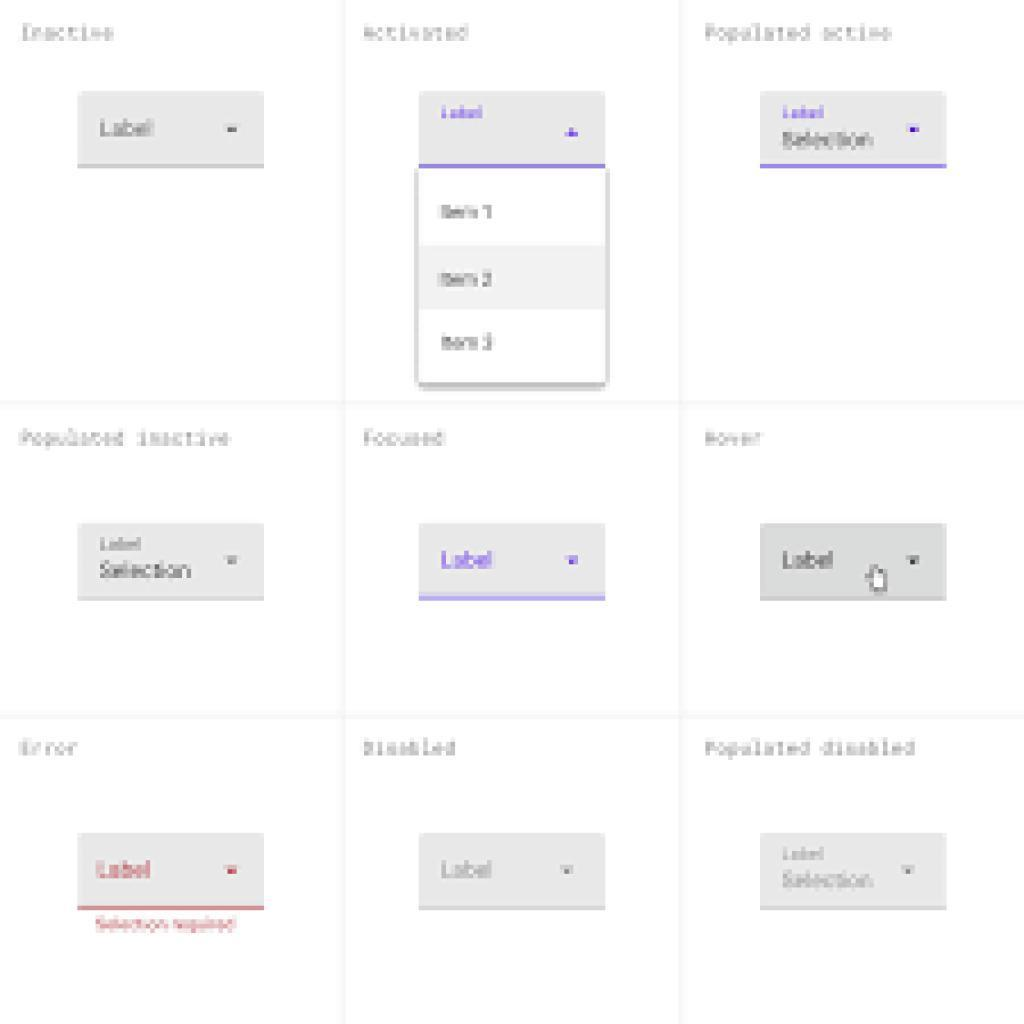dropdown: (76, 87, 271, 172), (757, 91, 950, 175), (758, 521, 953, 604), (416, 833, 606, 913), (763, 829, 946, 911), (418, 523, 607, 601), (79, 524, 266, 602), (77, 832, 262, 909), (421, 91, 608, 167)
